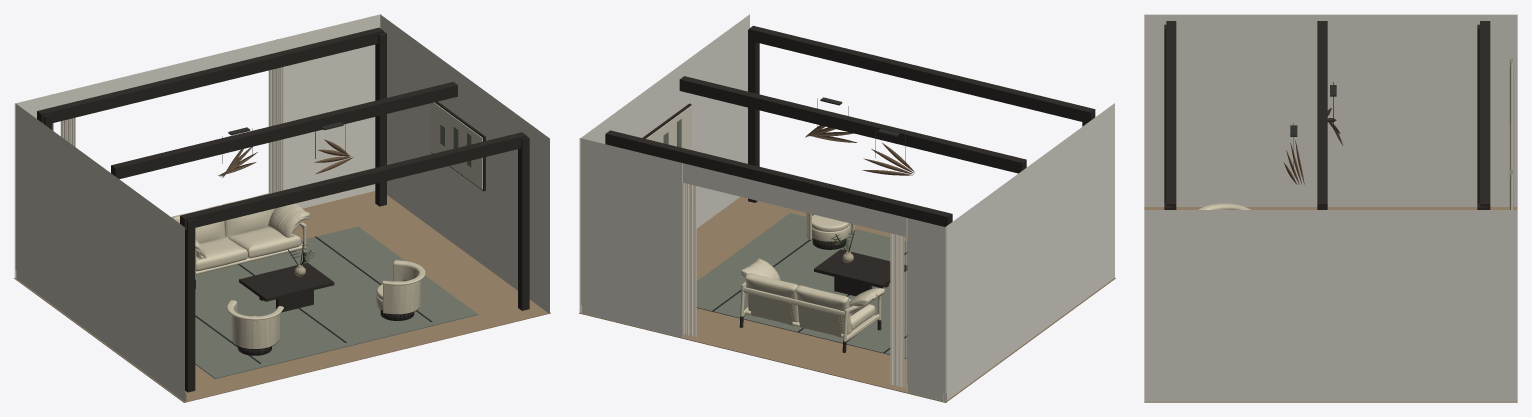
Rendered from great-1.glb.
3 views of the same model, side by side, from view 1: azimuth 30°, elevation 25°; view 2: azimuth 150°, elevation 25°; view 3: azimuth 270°, elevation 25° (orthographic). The views are drawn at different scales.
Parts seen in each view (by area): view 1: DESIGN | great removable wall finish, DESIGN | Great room primary ground, DESIGN | great floor finish, DESIGN | Great room timber ceiling member.001, DESIGN | Great room timber ceiling member, DESIGN | Great room timber ceiling member.002, DESIGN | Great room sofa facing conversation, DESIGN | Required Bellustar swivel chair two, DESIGN | Great room conversation table top, DESIGN | Great room timber end post.002, DESIGN | Required Bellustar swivel chair one, DESIGN | Textile artwork.001 (+5 smaller); view 2: DESIGN | great removable wall finish, DESIGN | great floor finish, DESIGN | Great room primary ground, DESIGN | Great room sofa facing conversation, DESIGN | Great room timber ceiling member, DESIGN | Great room timber ceiling member.001, DESIGN | Great room timber ceiling member.002, DESIGN | Great room soft window edge, DESIGN | Great room soft window edge.001, DESIGN | Great room conversation table top, DESIGN | Great room timber end post.002, DESIGN | Required Bellustar swivel chair two (+3 smaller); view 3: DESIGN | great removable wall finish, DESIGN | Great room timber ceiling member.001, DESIGN | Great room timber ceiling member.002, DESIGN | Great room timber ceiling member, DESIGN | great floor finish, DESIGN | Great room soft window edge, DESIGN | Great room timber end post.001, DESIGN | Great room timber end post, DESIGN | Required Flou pendant 2.
Boxes of the visible parts, x1,y1,x2,y2 form: DESIGN | great removable wall finish: (14, 14, 549, 401); DESIGN | Great room primary ground: (195, 226, 478, 378); DESIGN | great floor finish: (14, 191, 550, 402); DESIGN | Great room timber ceiling member.001: (111, 82, 457, 179); DESIGN | Great room timber ceiling member: (180, 132, 526, 230); DESIGN | Great room timber ceiling member.002: (37, 27, 383, 123); DESIGN | Great room sofa facing conversation: (171, 193, 309, 288); DESIGN | Required Bellustar swivel chair two: (376, 260, 425, 320); DESIGN | Great room conversation table top: (239, 262, 334, 301); DESIGN | Great room timber end post.002: (518, 136, 529, 310); DESIGN | Required Bellustar swivel chair one: (227, 300, 283, 355); DESIGN | Textile artwork.001: (430, 102, 482, 189); DESIGN | great removable wall finish: (579, 14, 1114, 401); DESIGN | great floor finish: (579, 196, 1115, 402); DESIGN | Great room primary ground: (696, 213, 907, 359); DESIGN | Great room sofa facing conversation: (739, 258, 884, 352); DESIGN | Great room timber ceiling member: (748, 25, 1095, 122); DESIGN | Great room timber ceiling member.001: (679, 76, 1026, 173); DESIGN | Great room timber ceiling member.002: (605, 130, 952, 226); DESIGN | Great room soft window edge: (890, 233, 904, 387); DESIGN | Great room soft window edge.001: (683, 182, 696, 337); DESIGN | Great room conversation table top: (814, 249, 907, 288); DESIGN | Great room timber end post.002: (748, 30, 759, 202); DESIGN | Required Bellustar swivel chair two: (806, 213, 854, 249); DESIGN | great removable wall finish: (1144, 14, 1517, 401); DESIGN | Great room timber ceiling member.001: (1317, 21, 1327, 209); DESIGN | Great room timber ceiling member.002: (1480, 21, 1490, 209); DESIGN | Great room timber ceiling member: (1166, 21, 1176, 209); DESIGN | great floor finish: (1144, 207, 1517, 402); DESIGN | Great room soft window edge: (1509, 59, 1513, 170); DESIGN | Great room timber end post.001: (1477, 24, 1479, 203); DESIGN | Great room timber end post: (1164, 24, 1166, 203); DESIGN | Required Flou pendant 2: (1283, 140, 1304, 184).
Bounding box in the file's own units: 6 × 2.74 × 4.82.
